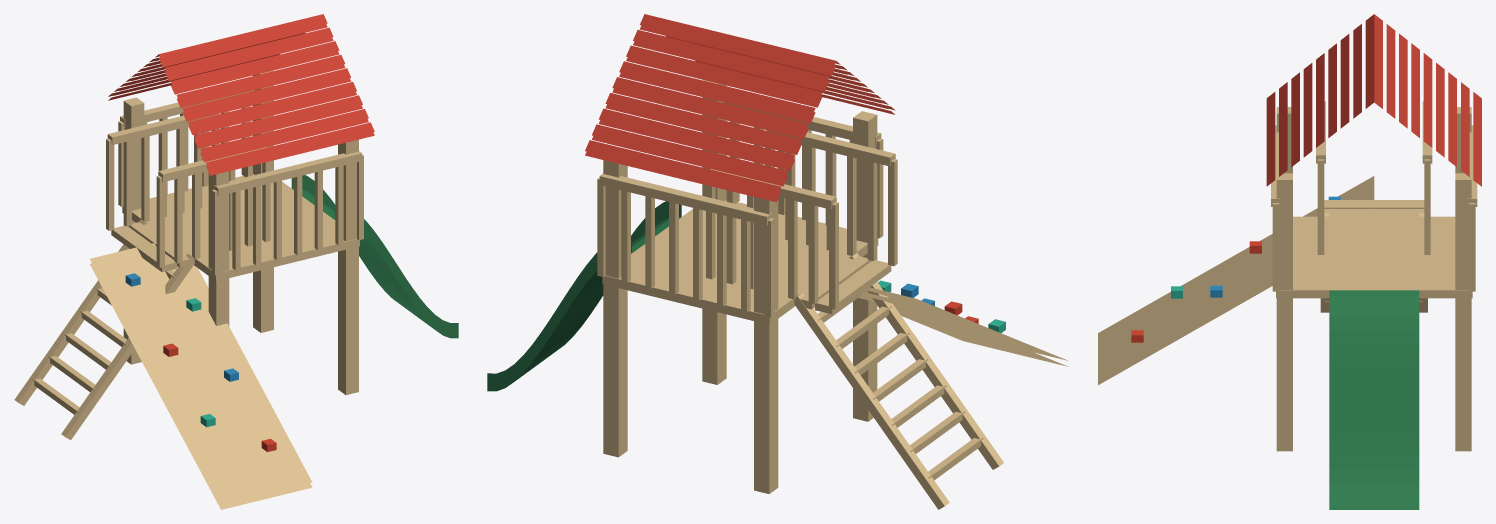
3 views of the same model, side by side, from view 1: azimuth 30°, elevation 25°; view 2: azimuth 150°, elevation 25°; view 3: azimuth 270°, elevation 25° (orthographic). The views are drawn at different scales.
Parts seen in each view (by area): view 1: SW-T207; view 2: SW-T207; view 3: SW-T207.
Part boxes in pixels (x1=…): SW-T207: x1=14, y1=14, x2=458, y2=509; SW-T207: x1=487, y1=14, x2=1068, y2=509; SW-T207: x1=1098, y1=14, x2=1481, y2=509.
Bounding box in the file's own units: 3.24 × 2.67 × 2.58.
